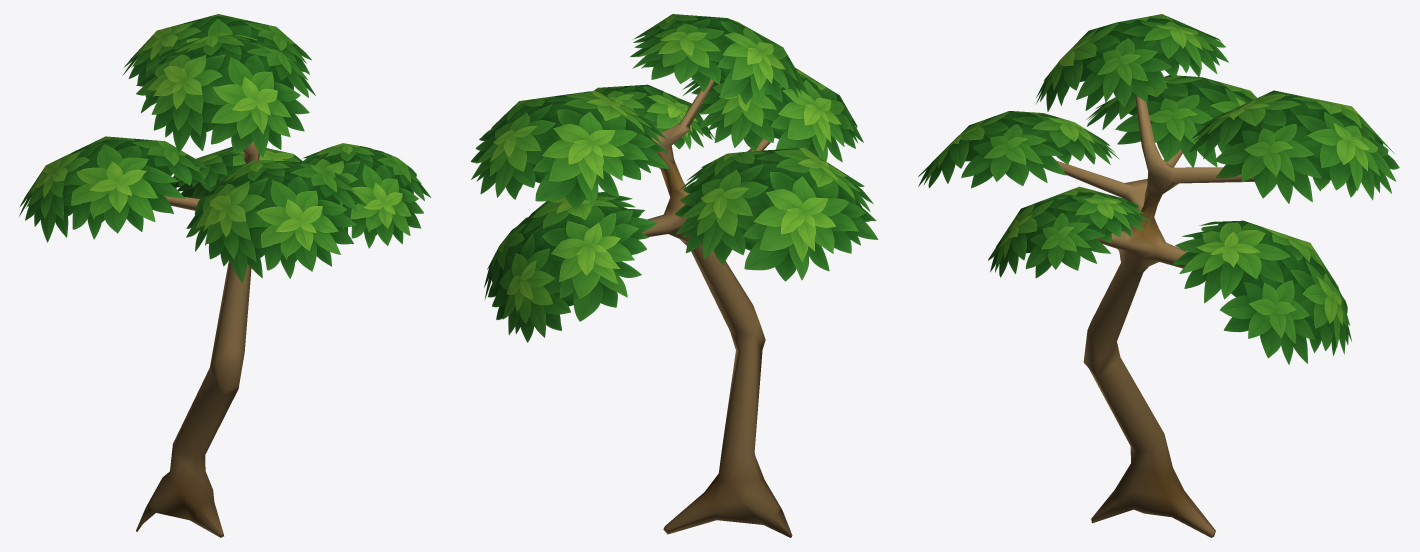
File: tree-1.glb
3 views of the same model, side by side, from view 1: azimuth 30°, elevation 25°; view 2: azimuth 150°, elevation 25°; view 3: azimuth 270°, elevation 25° (orthographic). The views are drawn at different scales.
Visible parts, largest first — view 1: canopy, trunk; view 2: canopy, trunk; view 3: canopy, trunk.
Part boxes in pixels (box(x1,y1,x2,y2)): canopy: box(19, 14, 431, 282); trunk: box(136, 141, 259, 537); canopy: box(470, 14, 878, 342); trunk: box(641, 79, 792, 537); canopy: box(918, 14, 1399, 364); trunk: box(1056, 94, 1254, 537).
Bounding box in the file's own units: 1.9 × 2.47 × 2.14.
Materials: 1 (1 with a texture image).
